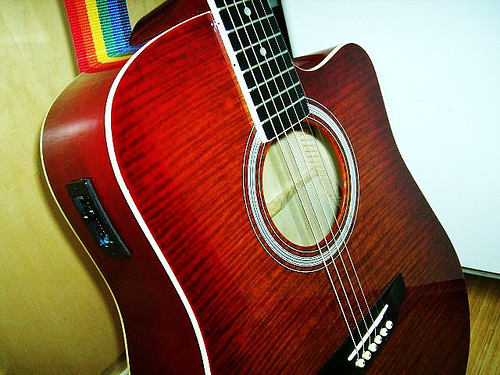guitar: (38, 1, 470, 375)
